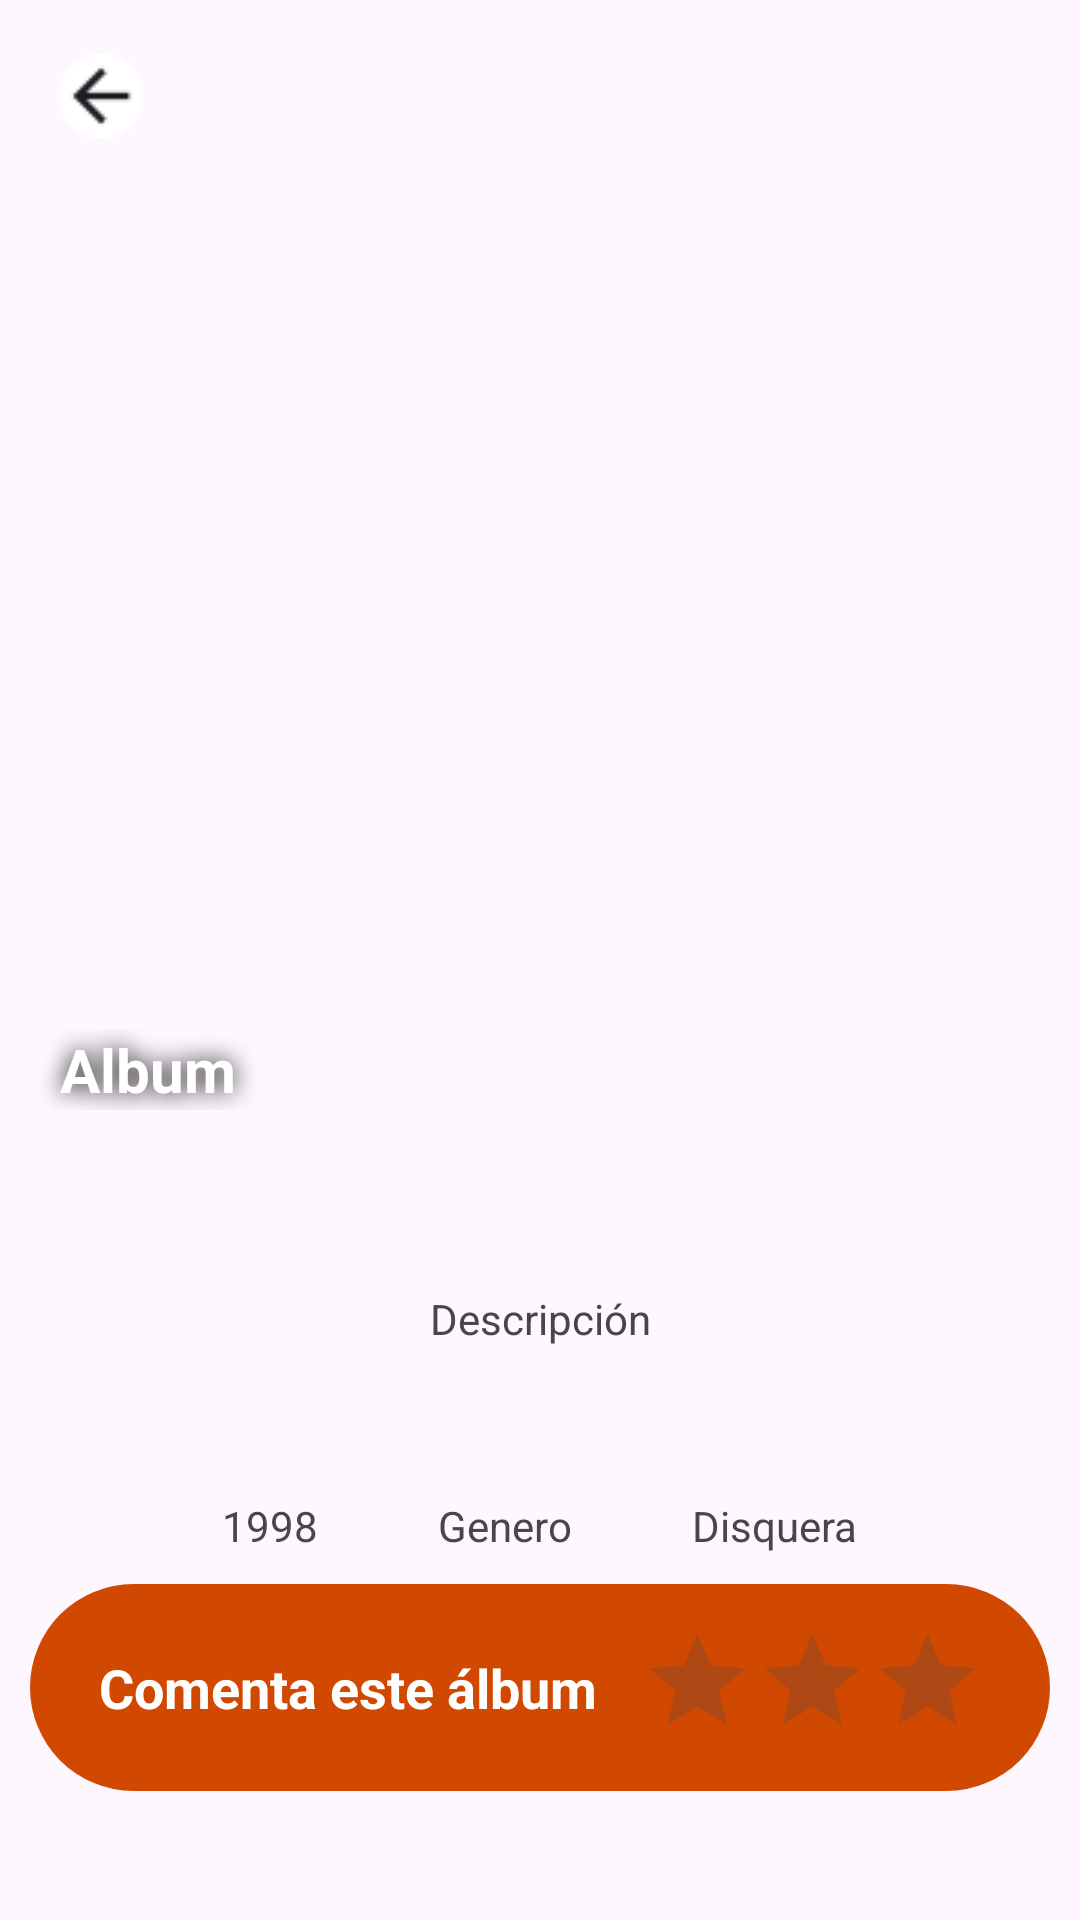

Icon click points for this 1080*1920 phone screenshot, format (x,y):
Album detail back button: (102,96)
